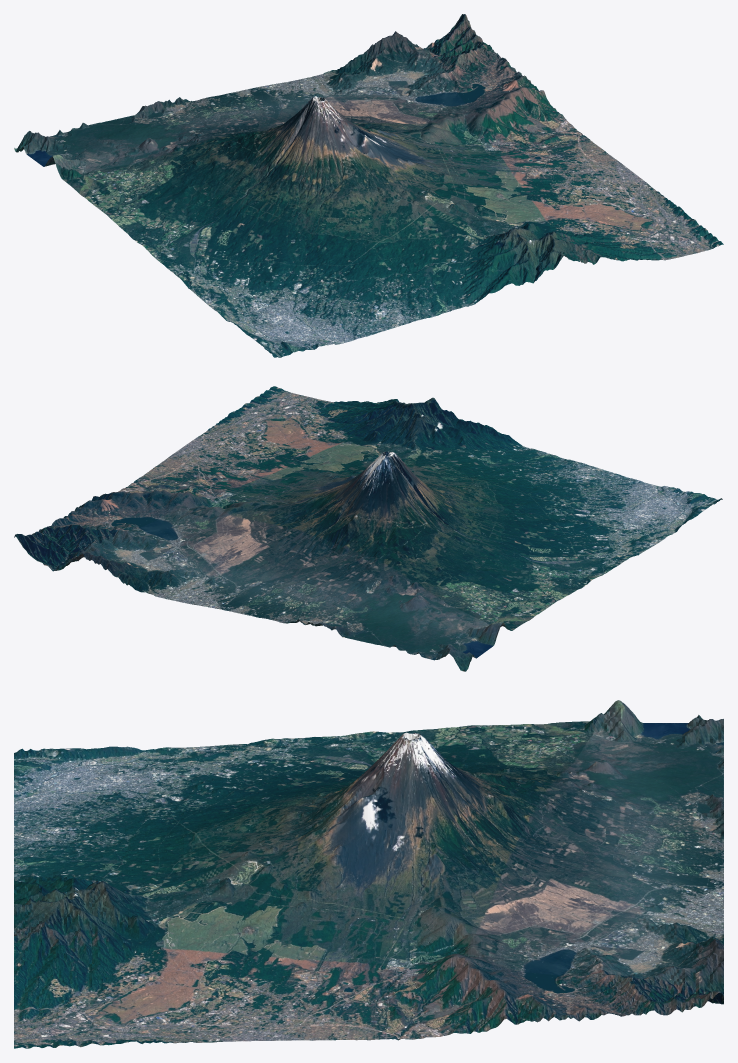
The model's file is huzisann.fbx.
3 views of the same model, one above another, from view 1: azimuth 30°, elevation 25°; view 2: azimuth 150°, elevation 25°; view 3: azimuth 270°, elevation 25° (orthographic). The views are drawn at different scales.
Visible parts, largest first — view 1: dem (6); view 2: dem (6); view 3: dem (6).
Boxes of the visible parts, <box> form: dem (6): <box>14,14,723,357</box>; dem (6): <box>14,386,722,671</box>; dem (6): <box>14,700,723,1048</box>.
Bounding box in the file's own units: 14941 × 3461 × 14941.
Materials: 1 (1 with a texture image).
